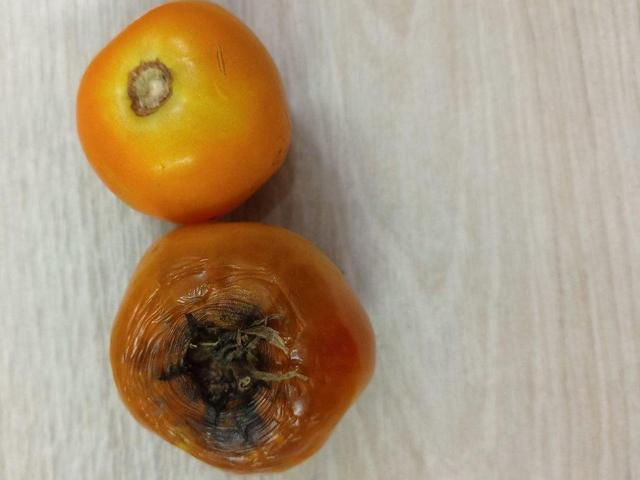defect: (108, 219, 379, 474)
